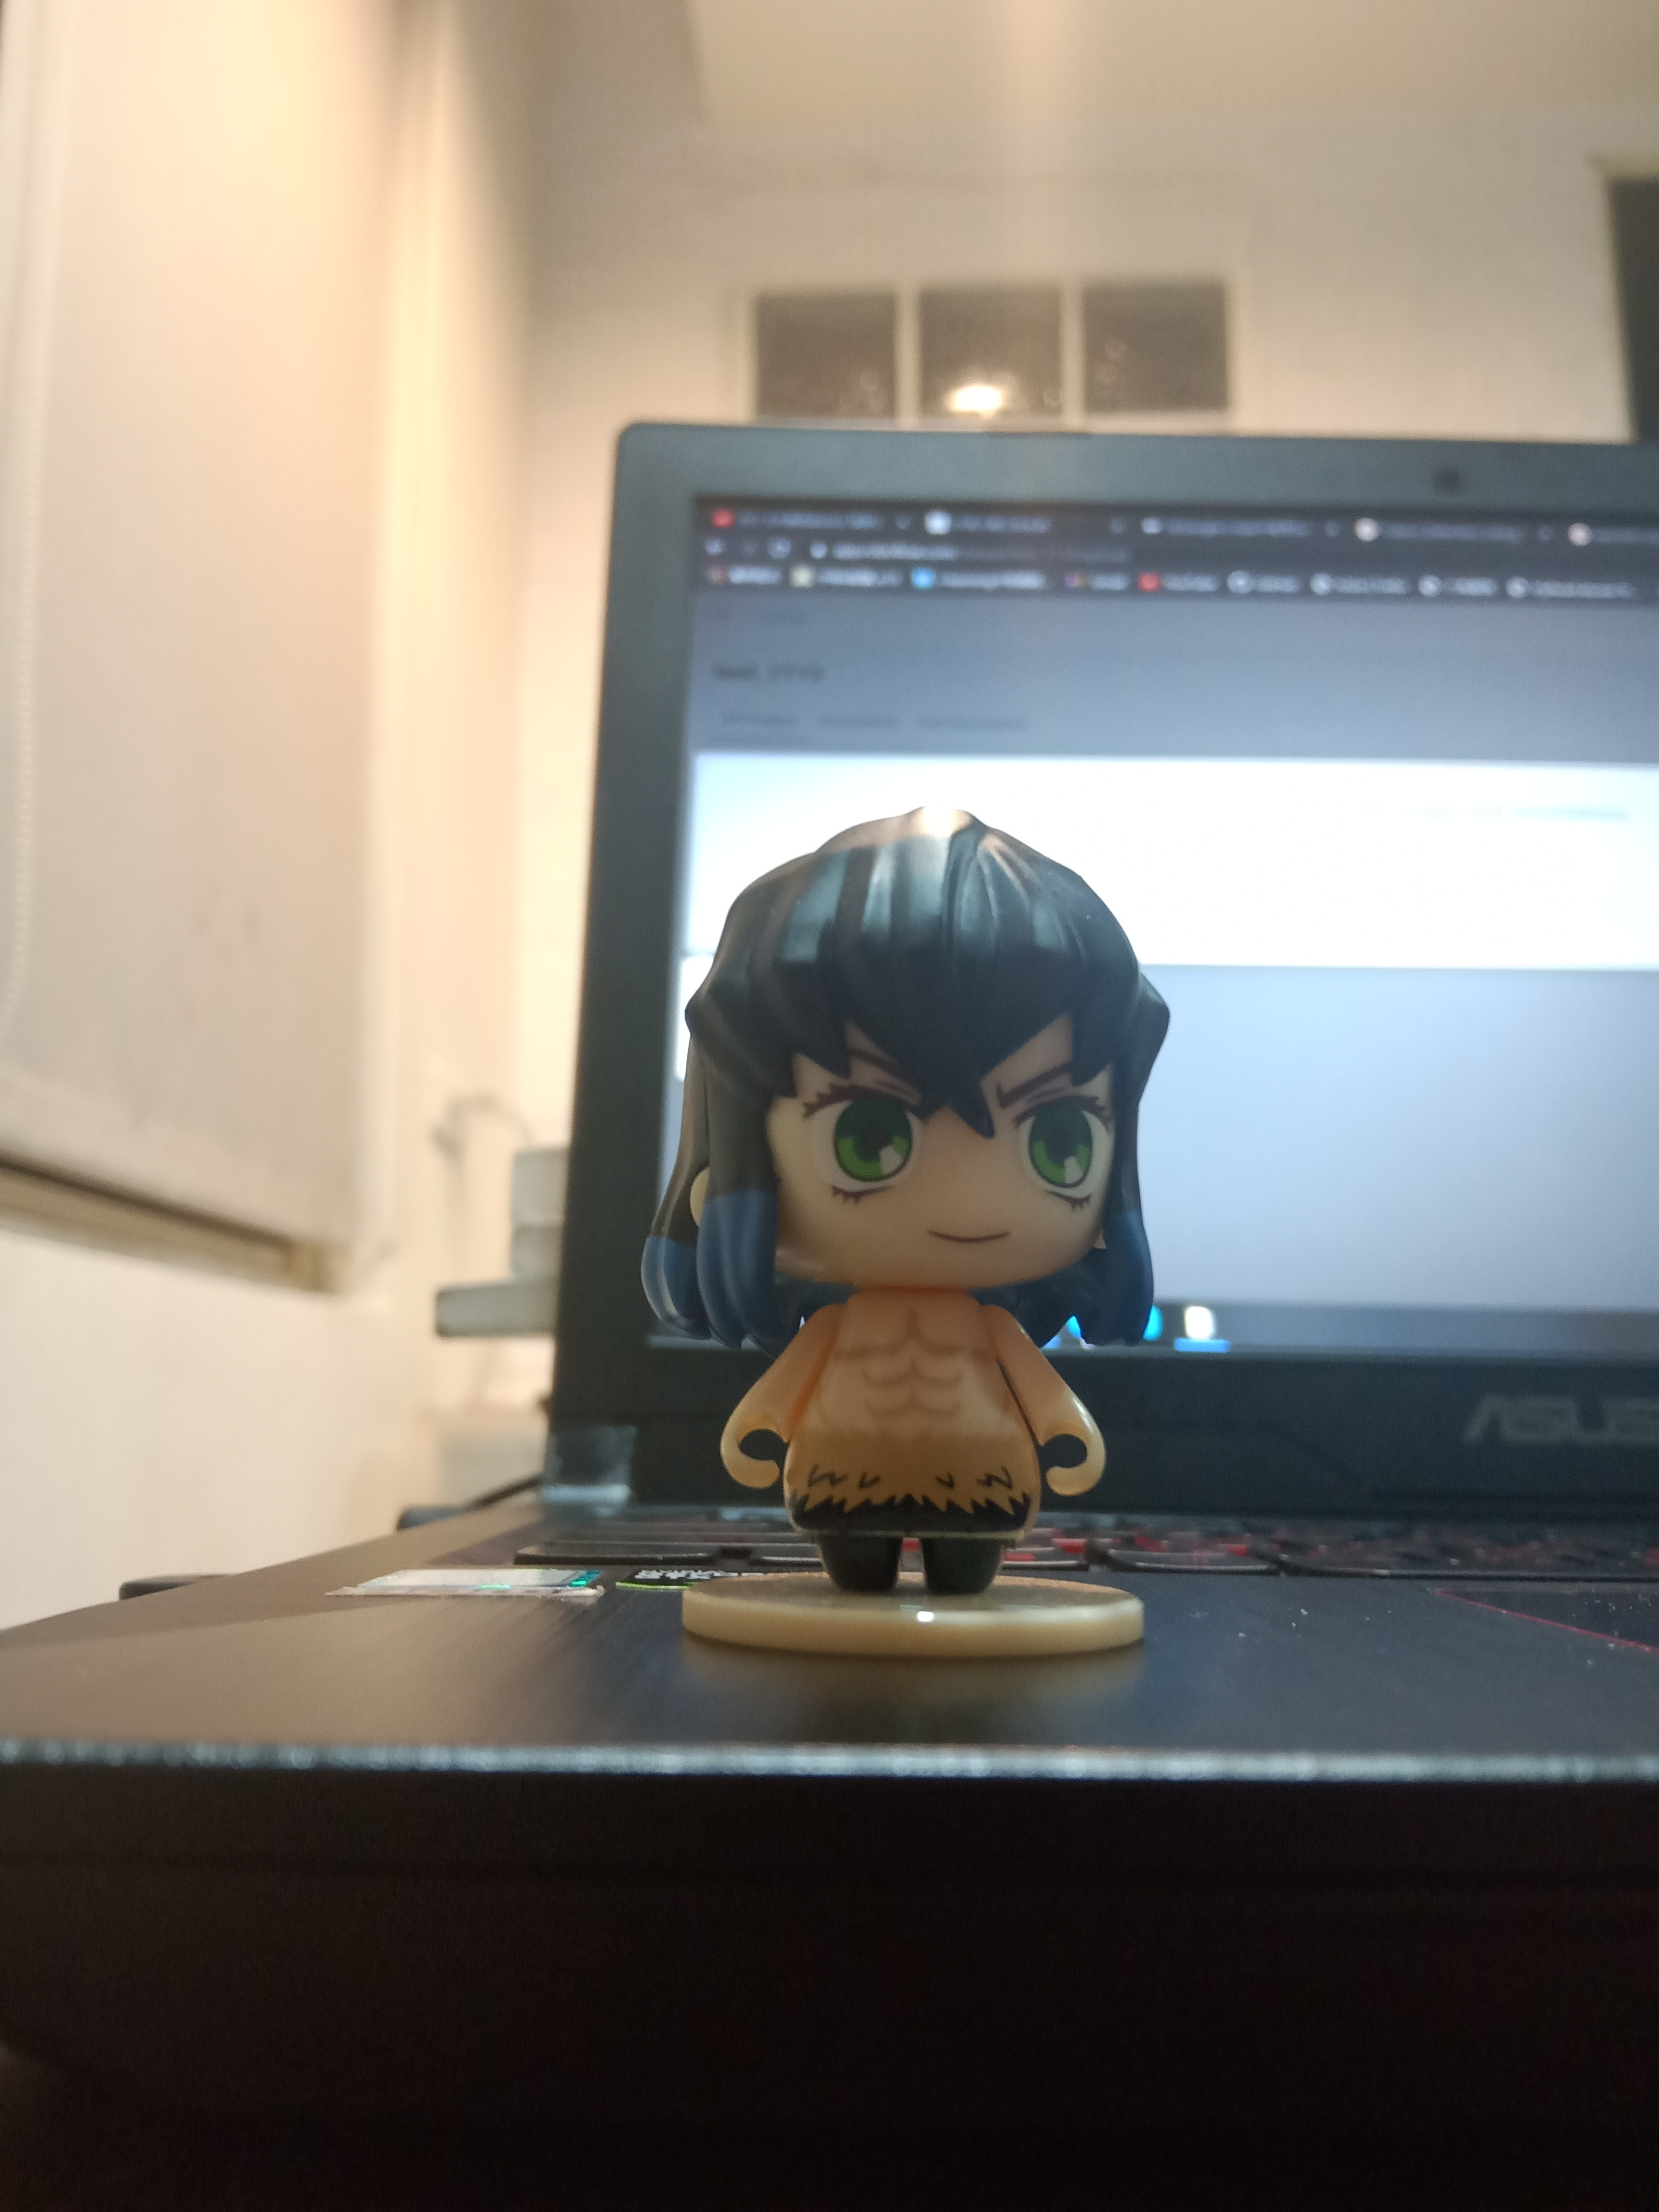Inosuke: (626, 786, 1197, 1693)
